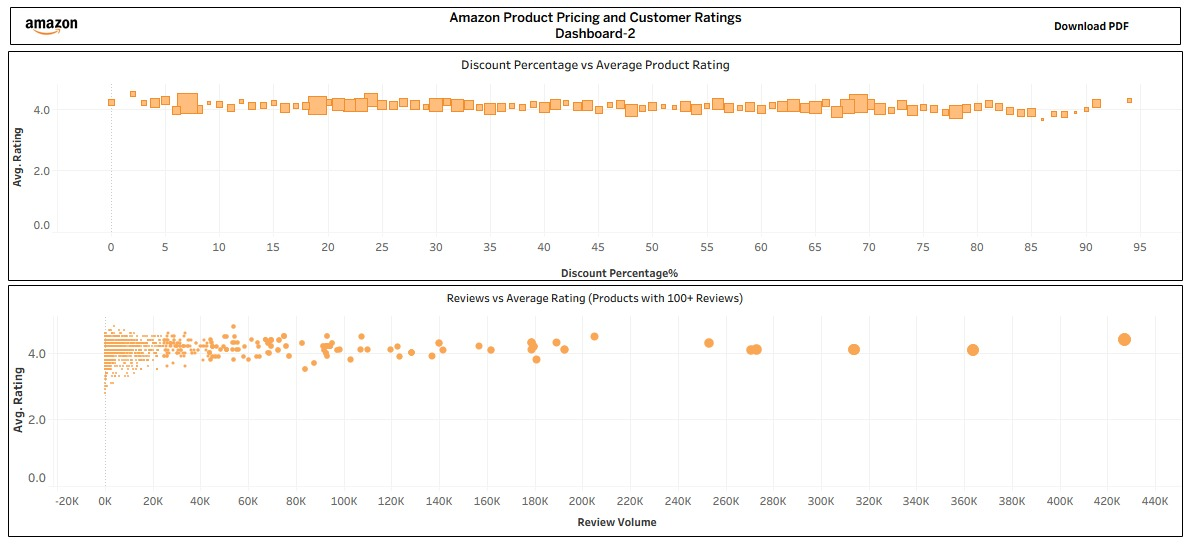

What the dashboard file says about the page in this screenshot:
{"tool":"tableau","page":{"name":"Dashboard 2","canvas":[1000,1000],"units":"permille","ordinal":1},"visuals":[{"type":"title","box":[7.3,14.5,985.3,83.3]},{"type":"image","param":"Image/download.png","box":[15.6,27.2,58.6,54.4]},{"type":"dashboard-object","box":[848.9,30.8,131.9,47.1]},{"type":"worksheet","title":"Discount% Vs Rating","mark":"Square","rows":["rating"],"cols":["discount_percentage - Split 1"],"box":[7.3,97.8,985.3,424]},{"type":"worksheet","title":"Reviews Vs Rating","mark":"Circle","rows":["rating"],"cols":["rating_count"],"box":[7.3,521.8,985.3,463.7]}]}

Visuals, with their boxes on the dashboard's canvas, which has no fixed pixel size, in thousandths of its width and height (x1, y1, x2, y2). These are canvas units, not pixel positions in the 1191x545 screenshot, which may show the page scaled, cropped or inside an application window:
title: <box>7,14,993,98</box>
image: <box>16,27,74,82</box>
dashboard-object: <box>849,31,981,78</box>
"Discount% Vs Rating" worksheet (Square marks): <box>7,98,993,522</box>
"Reviews Vs Rating" worksheet (Circle marks): <box>7,522,993,986</box>
